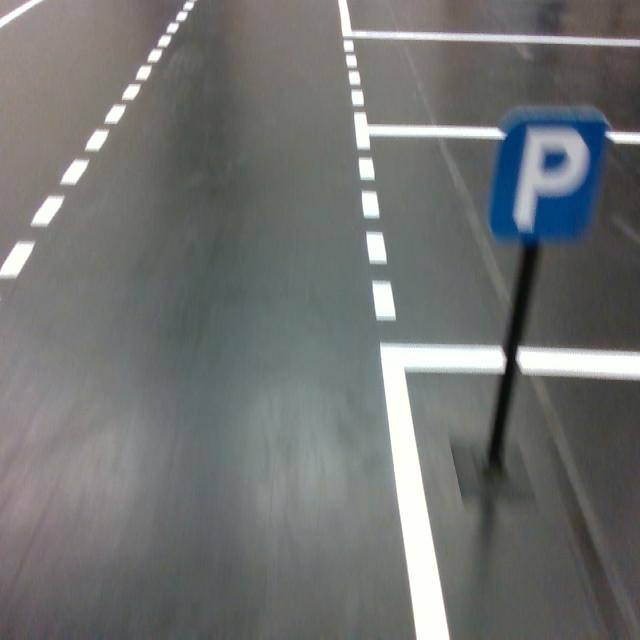parking-sign: (486, 104, 614, 245)
